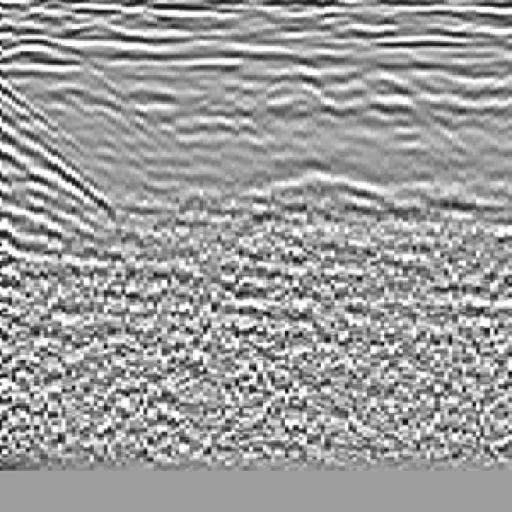nonmetalic: (274, 51, 442, 231), (1, 35, 109, 243)
